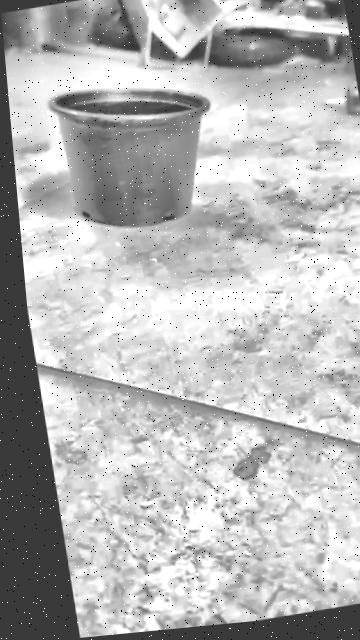pot: (43, 67, 226, 239)
